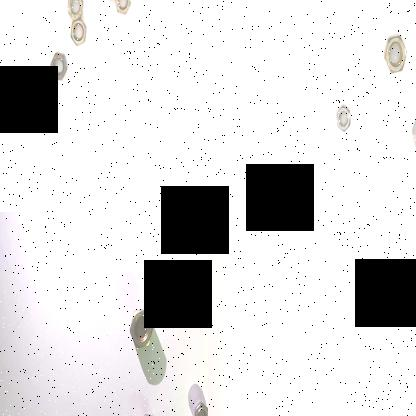Bolts: (358, 259, 392, 311)
NUTS: (381, 30, 408, 76), (129, 306, 153, 348), (47, 46, 67, 82), (67, 18, 91, 48), (332, 100, 353, 132), (63, 0, 87, 20), (110, 0, 132, 17), (190, 400, 208, 416), (409, 114, 416, 154)
